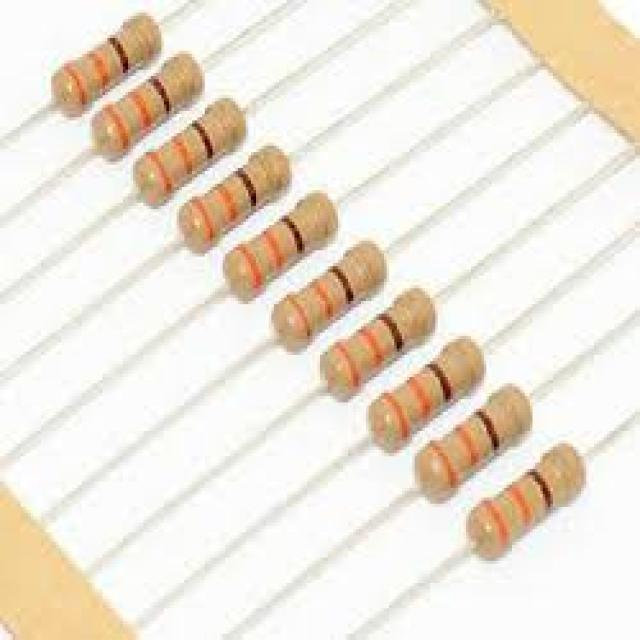Resistor: (366, 336, 486, 448), (469, 444, 585, 558), (38, 3, 164, 106), (221, 189, 335, 299), (414, 386, 527, 496), (273, 240, 383, 347), (320, 287, 430, 394), (133, 101, 244, 206), (90, 54, 201, 158), (180, 148, 289, 250)
